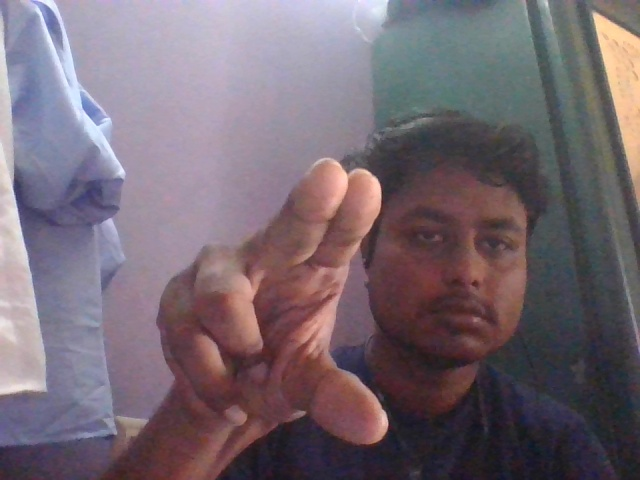no: (139, 153, 396, 461)
